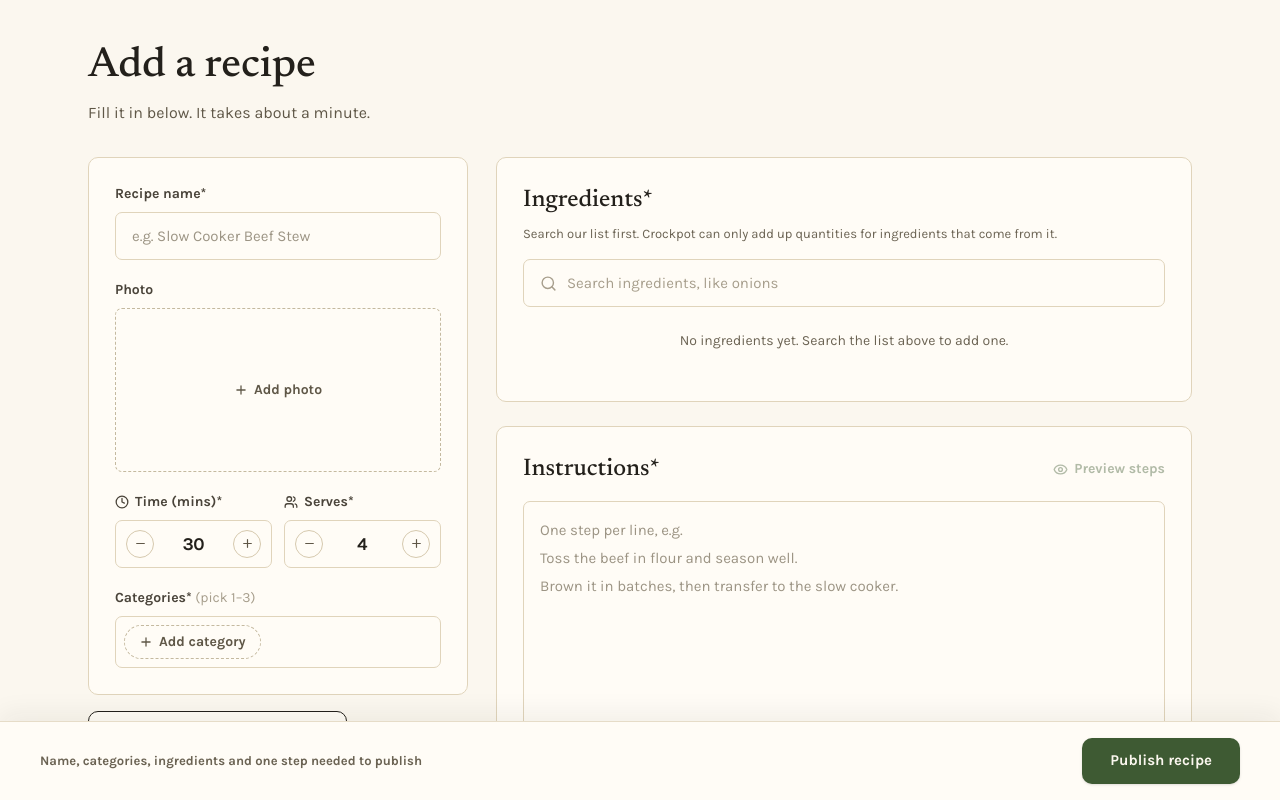
CreateRecipePage › publishing an empty form shows every gap and focuses the name
Click the button "Publish recipe".
click(1161, 761)  # box top-left (1082, 738), bottom-right (1240, 784)
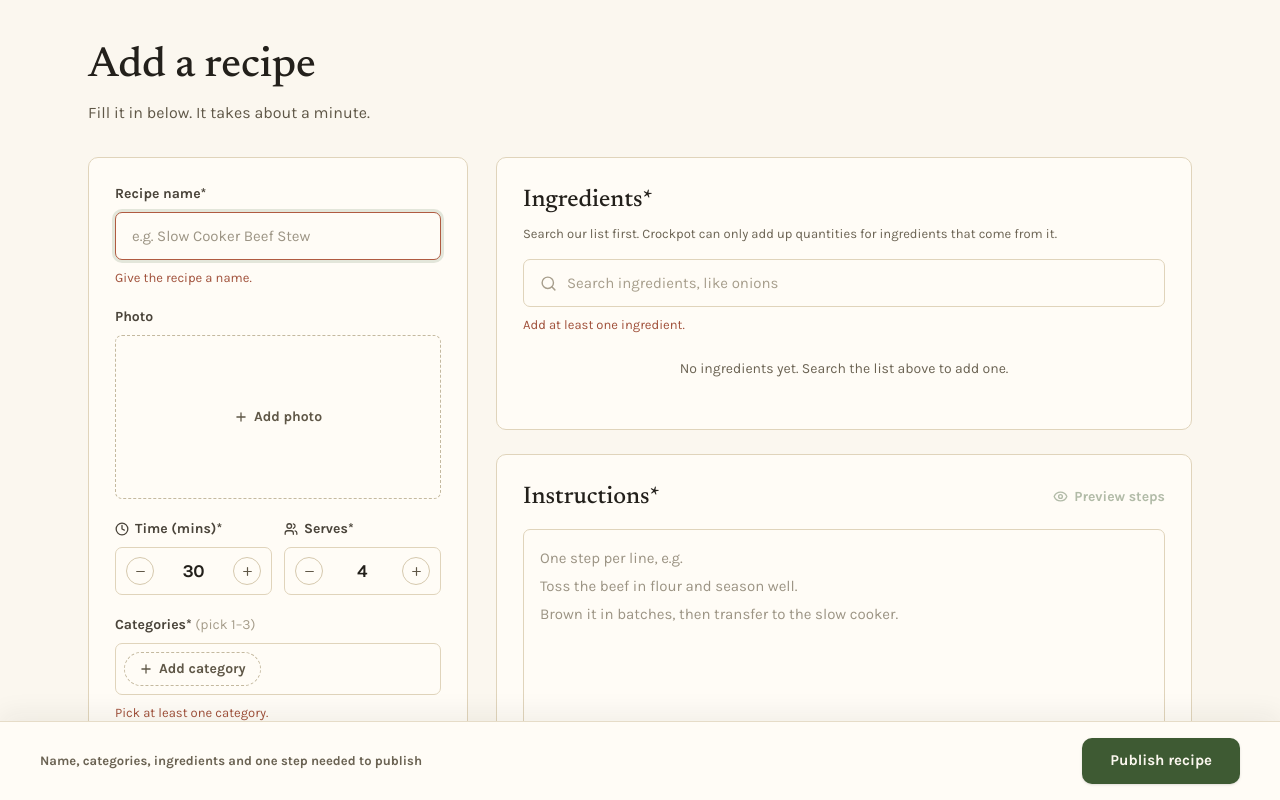
Now the text "Give the recipe a name." is shown, box top-left (115, 270), bottom-right (252, 284)
Now the text "Pick at least one category." is shown, box top-left (115, 705), bottom-right (268, 720)
Now the text "Add at least one ingredient." is shown, box top-left (523, 317), bottom-right (685, 332)
